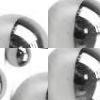ironball: (47, 48, 99, 99), (47, 0, 100, 47), (0, 12, 47, 47), (10, 71, 49, 99), (4, 47, 31, 68)
